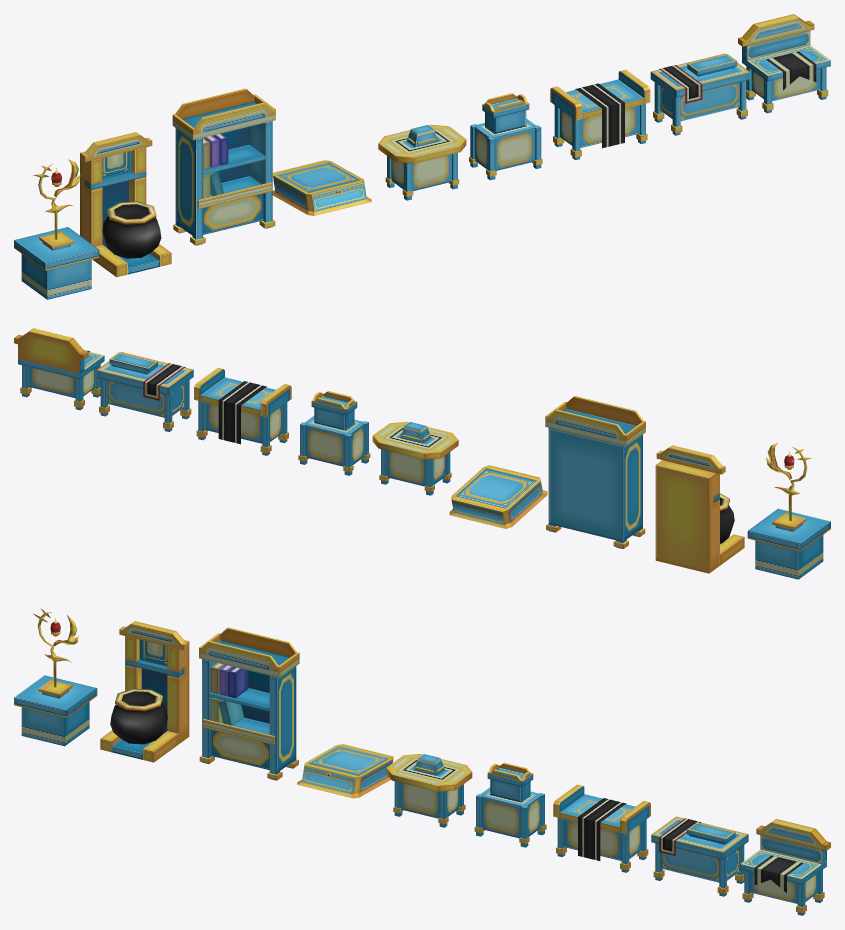
File: S3_ALL.FBX
3 views of the same model, one above another, from view 1: azimuth 30°, elevation 25°; view 2: azimuth 150°, elevation 25°; view 3: azimuth 330°, elevation 25° (orthographic). The views are drawn at different scales.
Visible parts, largest first — view 1: Object162, pot, Object004, Object005, Plane001, NGon003, Object017, Object015, Object161; view 2: Object162, pot, Object005, Plane001, NGon003, Object004, Object017, Object015, Object161; view 3: Object162, pot, Object004, Object005, Plane001, NGon003, Object017, Object015, Object161.
Part boxes in pixels (left/top/right/bottom): Object162: left=172, top=88, right=275, bottom=245; pot: left=80, top=132, right=171, bottom=277; Object004: left=738, top=14, right=830, bottom=113; Object005: left=550, top=69, right=650, bottom=159; Plane001: left=650, top=53, right=750, bottom=135; NGon003: left=14, top=159, right=99, bottom=299; Object017: left=378, top=124, right=466, bottom=200; Object015: left=469, top=93, right=542, bottom=180; Object161: left=272, top=160, right=371, bottom=215; Object162: left=545, top=396, right=645, bottom=548; pot: left=655, top=445, right=744, bottom=573; Object005: left=194, top=367, right=291, bottom=455; Plane001: left=96, top=352, right=193, bottom=431; NGon003: left=747, top=443, right=830, bottom=579; Object004: left=14, top=328, right=104, bottom=410; Object017: left=372, top=421, right=458, bottom=495; Object015: left=298, top=391, right=370, bottom=475; Object161: left=449, top=465, right=547, bottom=528; Object162: left=199, top=627, right=299, bottom=780; pot: left=100, top=621, right=189, bottom=762; Object004: left=740, top=819, right=830, bottom=915; Object005: left=553, top=784, right=650, bottom=872; Plane001: left=651, top=816, right=748, bottom=896; NGon003: left=14, top=608, right=97, bottom=746; Object017: left=386, top=754, right=472, bottom=827; Object015: left=474, top=762, right=546, bottom=847; Object161: left=297, top=744, right=393, bottom=798.
Size of the model in its own units: 18.08 by 2.7 by 2.15.
